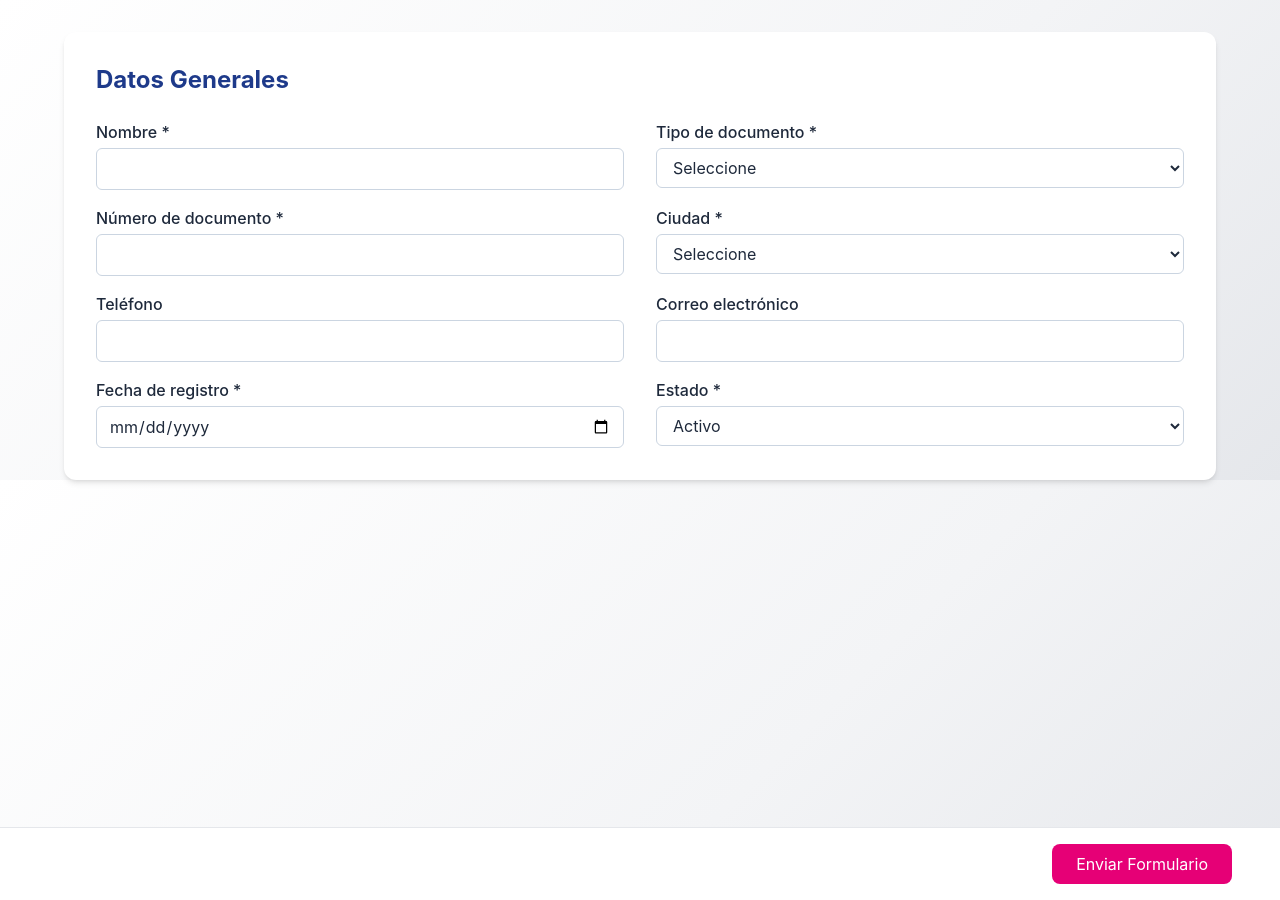
Test: MerchantForm › muestra errores de validación al enviar formulario vacío
Click the button "Enviar Formulario" at (1142, 864), box 1052,844 -> 1232,884
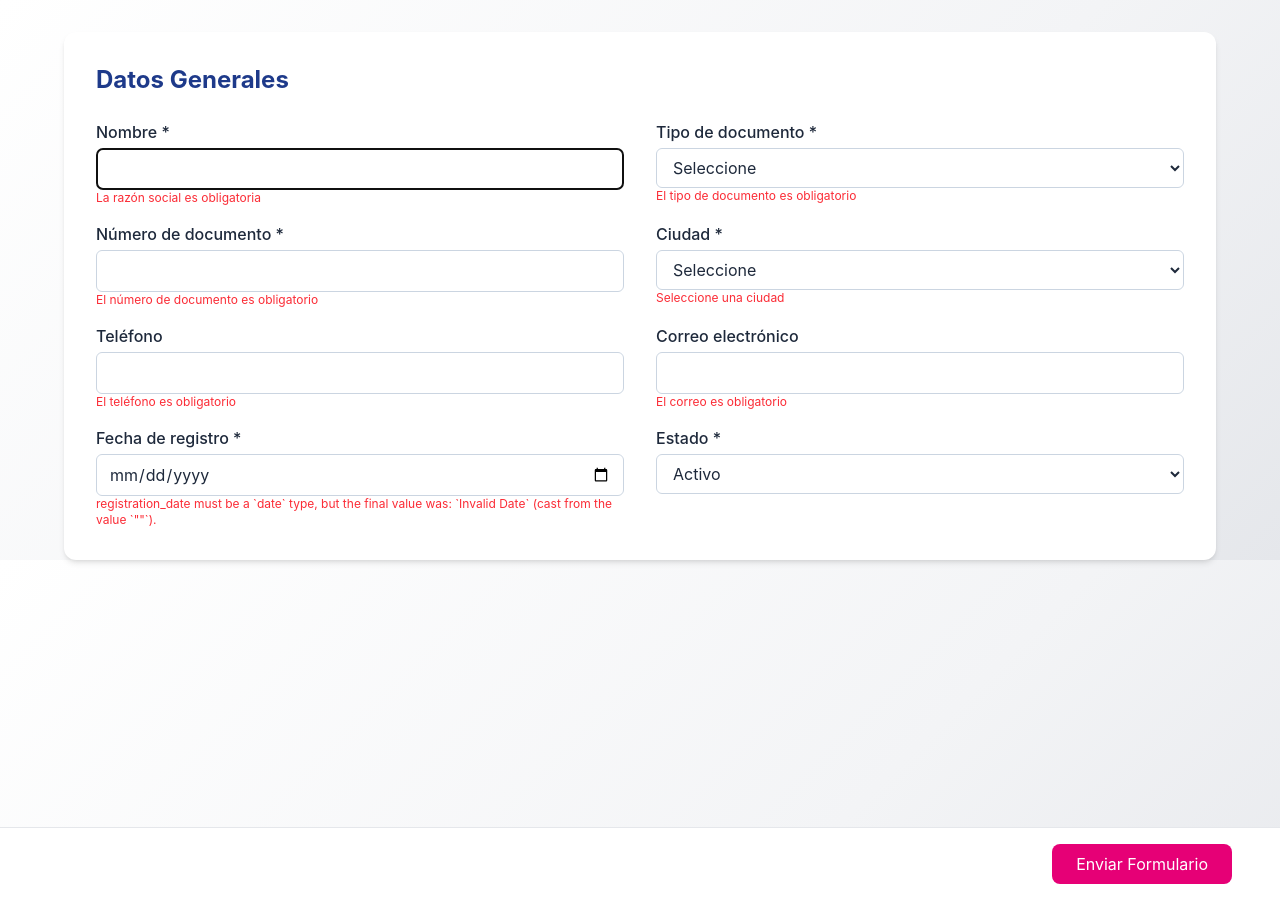
Expected: the text "La razón social es obligatoria" is shown, 96,190 -> 261,205
Expected: the text "El tipo de documento es obligatorio" is shown, 656,188 -> 856,203
Expected: the text "El número de documento es obligatorio" is shown, 96,292 -> 318,307
